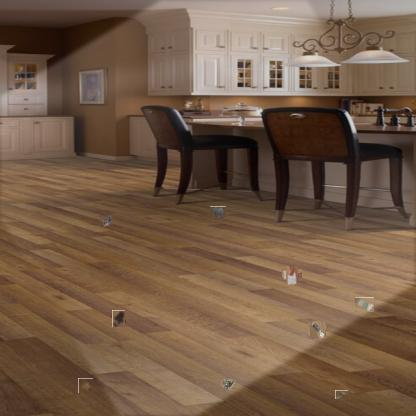dirty: (354, 297, 374, 312), (308, 322, 326, 338), (284, 267, 300, 283), (78, 378, 93, 393), (220, 377, 236, 391), (100, 213, 112, 227), (335, 390, 348, 399)
liquid: (111, 311, 126, 326), (212, 205, 225, 219)
